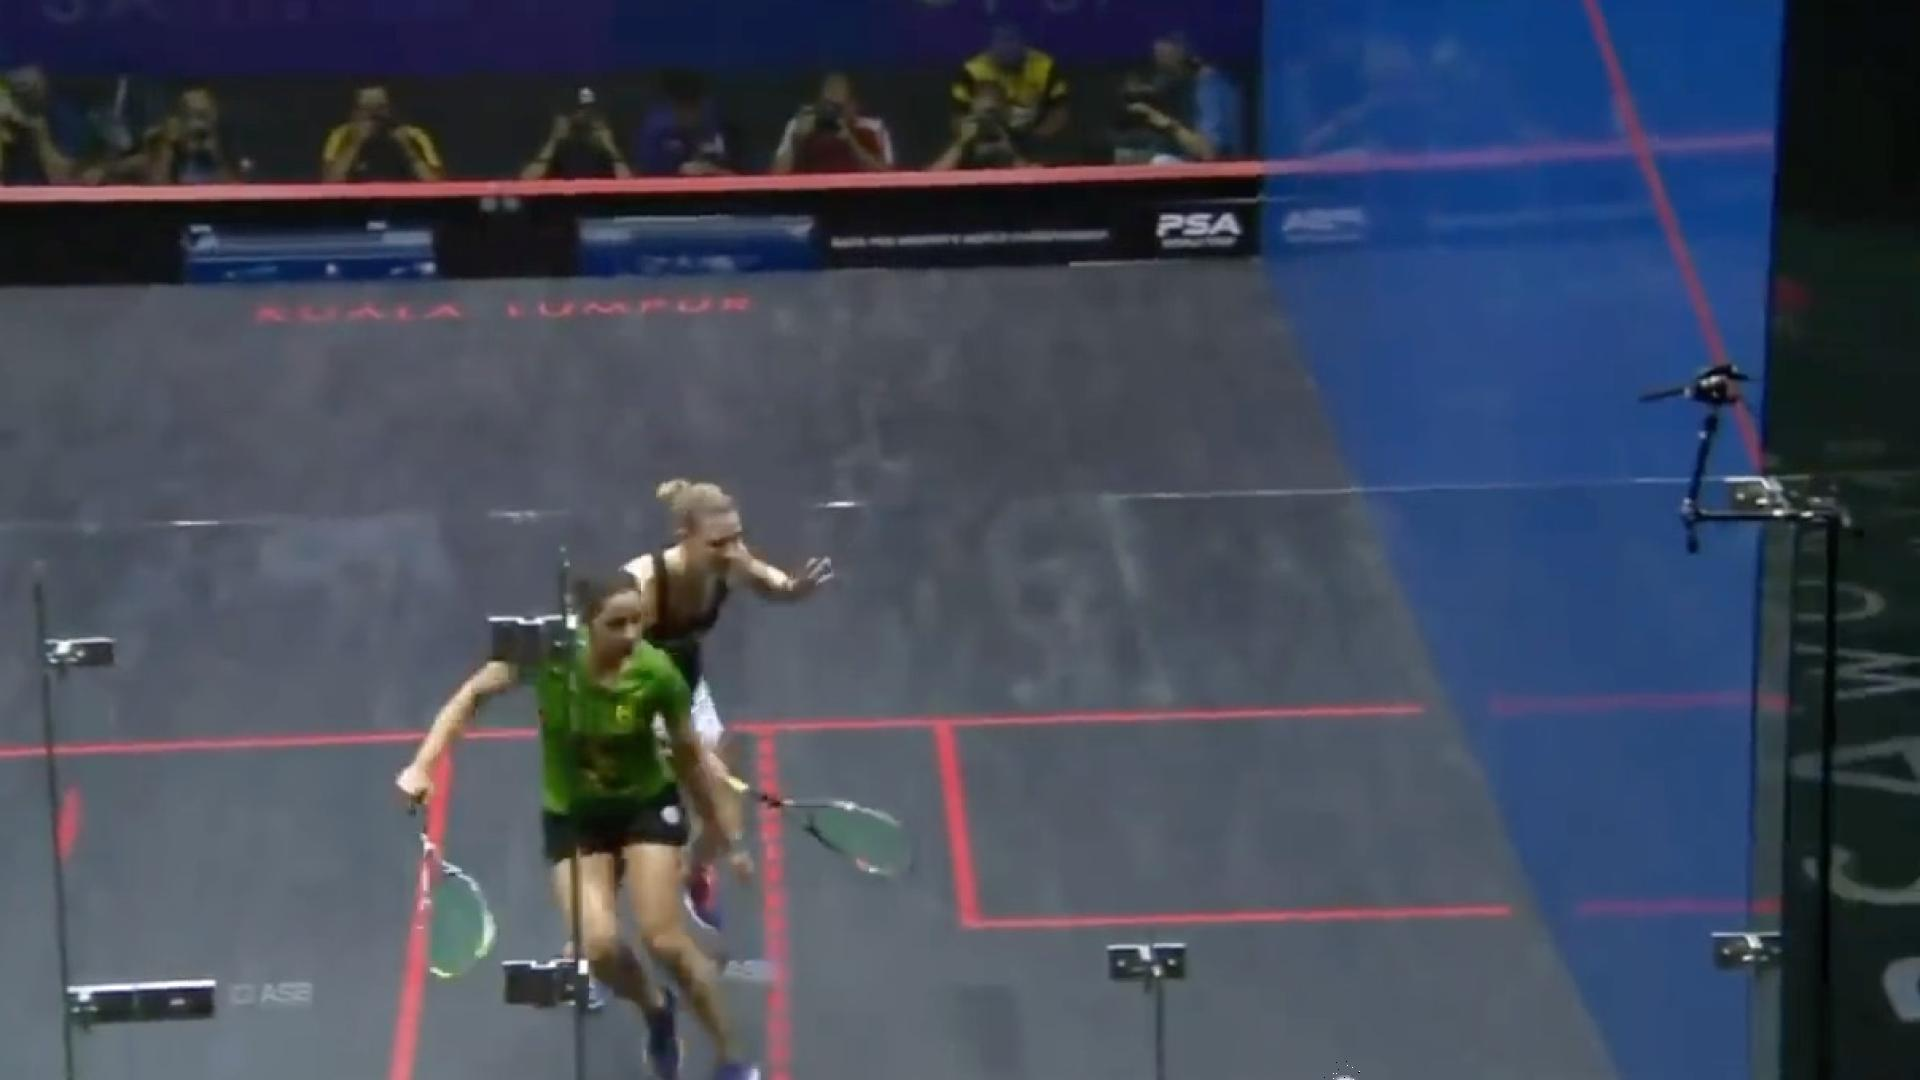Squash-Ball: (1323, 1062, 1364, 1080)
